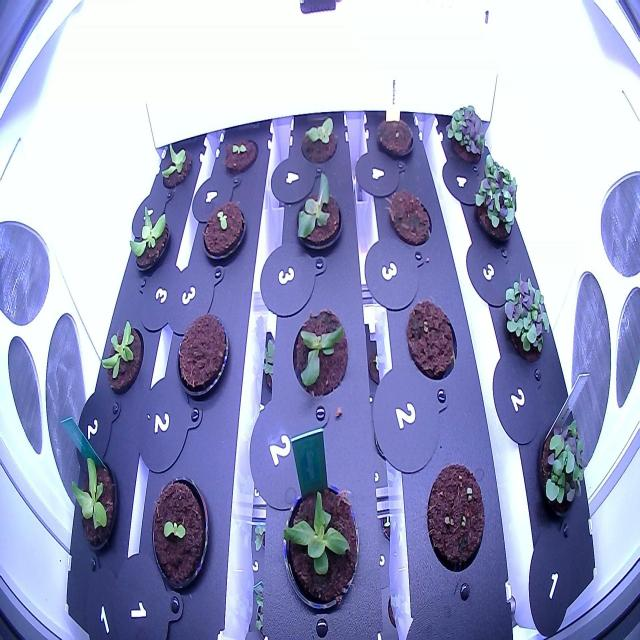germination: (142, 469, 217, 602), (417, 456, 488, 578), (199, 192, 249, 268), (219, 128, 260, 179)
pod: (398, 290, 460, 386), (172, 303, 232, 402), (383, 182, 437, 254), (370, 111, 416, 165)
young: (275, 472, 365, 622), (284, 298, 352, 404), (64, 440, 119, 554), (289, 167, 348, 260), (124, 198, 174, 279), (99, 312, 145, 394), (291, 103, 344, 171), (157, 135, 195, 192)
